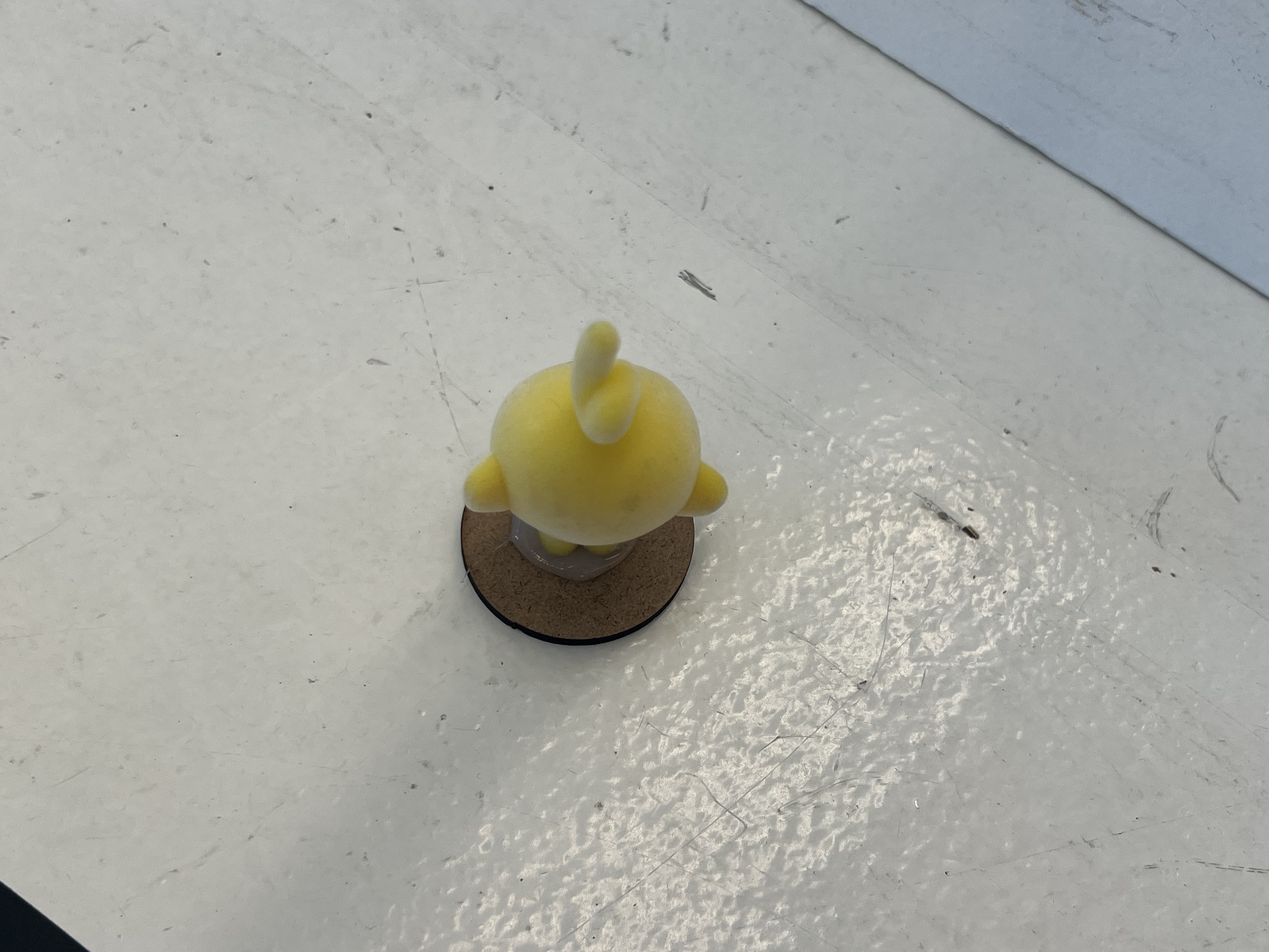teletubby: (464, 320, 727, 558)
